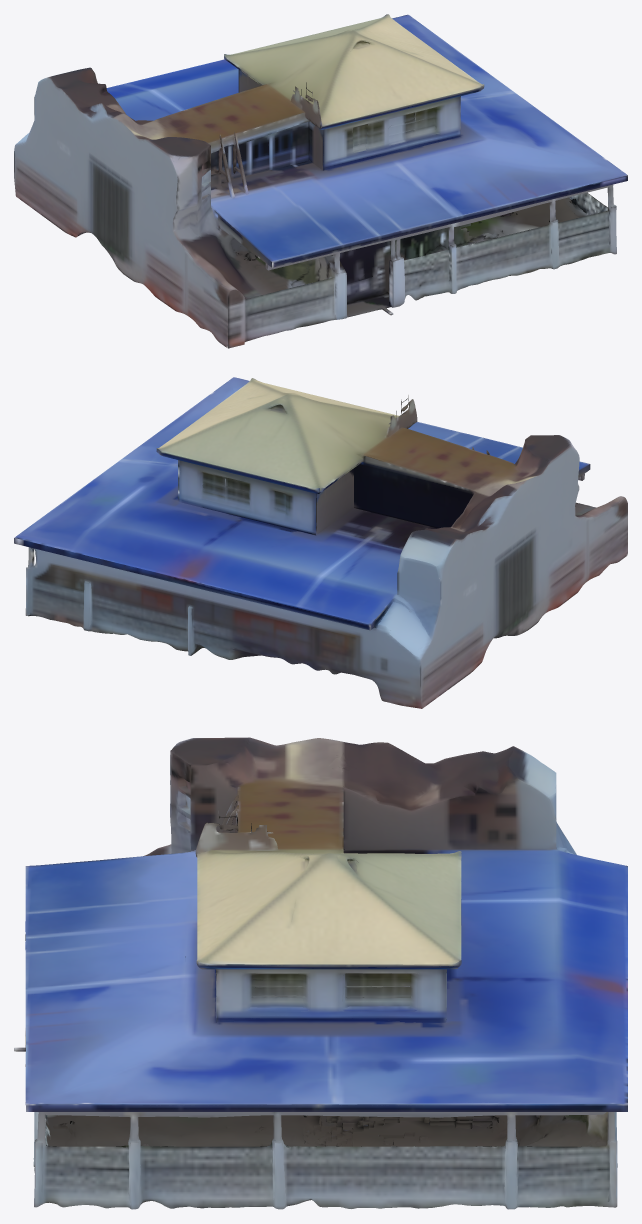
The model's file is base_basic_shaded.fbx.
3 renders of one model, top to bottom at view 1: azimuth 30°, elevation 25°; view 2: azimuth 150°, elevation 25°; view 3: azimuth 270°, elevation 25°, orthographic. The views are drawn at different scales.
Parts seen in each view (by area): view 1: model; view 2: model; view 3: model.
Part boxes in pixels (<box>): model: <box>14,14,627,348</box>; model: <box>14,377,627,708</box>; model: <box>14,737,627,1209</box>.
Size of the model in its own units: 190 by 84.38 by 184.
